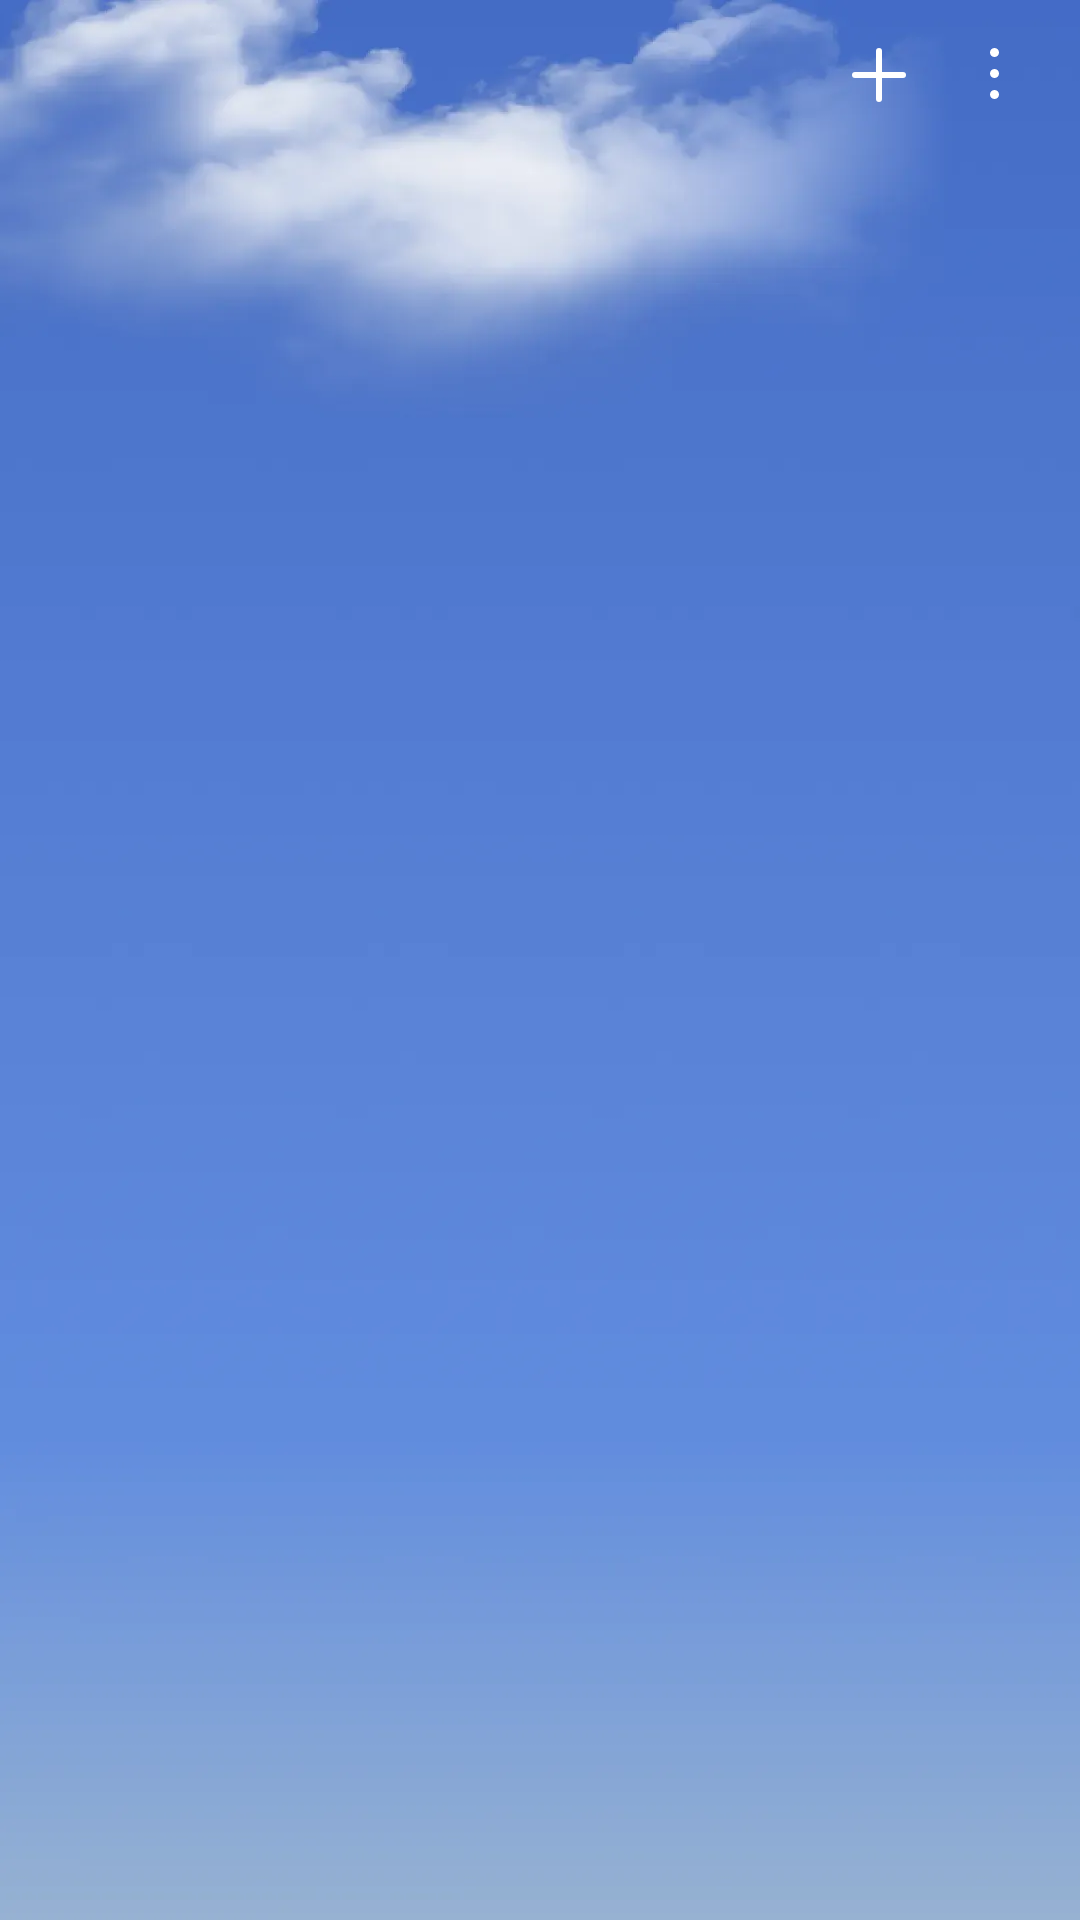

Screen size 1080*1920. Icon name, then its box in pixels as (x1, y1, x2, y2):
add: (837, 48, 906, 117)
more: (990, 48, 999, 99)
